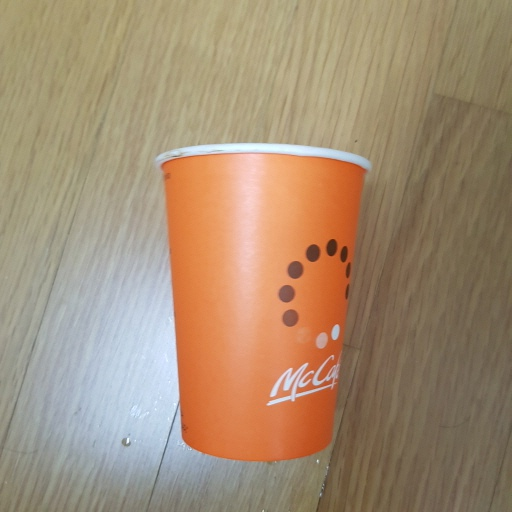Paper_1: (155, 140, 375, 461)
